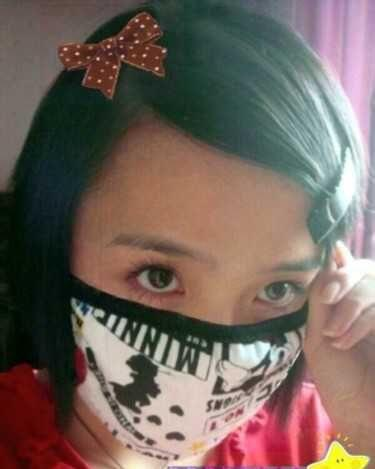OK: (72, 228, 321, 463)
